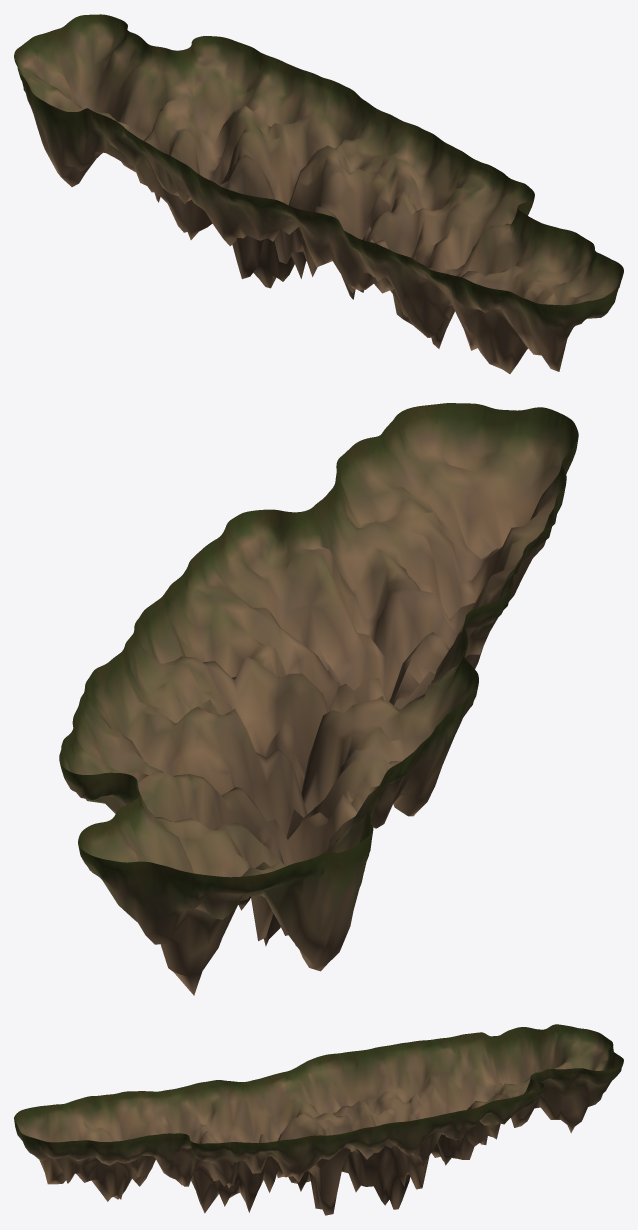
File: SM_H18_IslandRock.fbx
3 renders of one model, top to bottom at view 1: azimuth 30°, elevation 25°; view 2: azimuth 150°, elevation 25°; view 3: azimuth 270°, elevation 25°, orthographic. The views are drawn at different scales.
Parts seen in each view (by area): view 1: SM_H18_IslandRock; view 2: SM_H18_IslandRock; view 3: SM_H18_IslandRock.
Boxes of the visible parts, x1,y1,x2,y2 form: SM_H18_IslandRock: (14,14,623,373); SM_H18_IslandRock: (59,403,578,995); SM_H18_IslandRock: (14,1024,623,1215).
Bounding box in the file's own units: 166 × 95.95 × 395.
